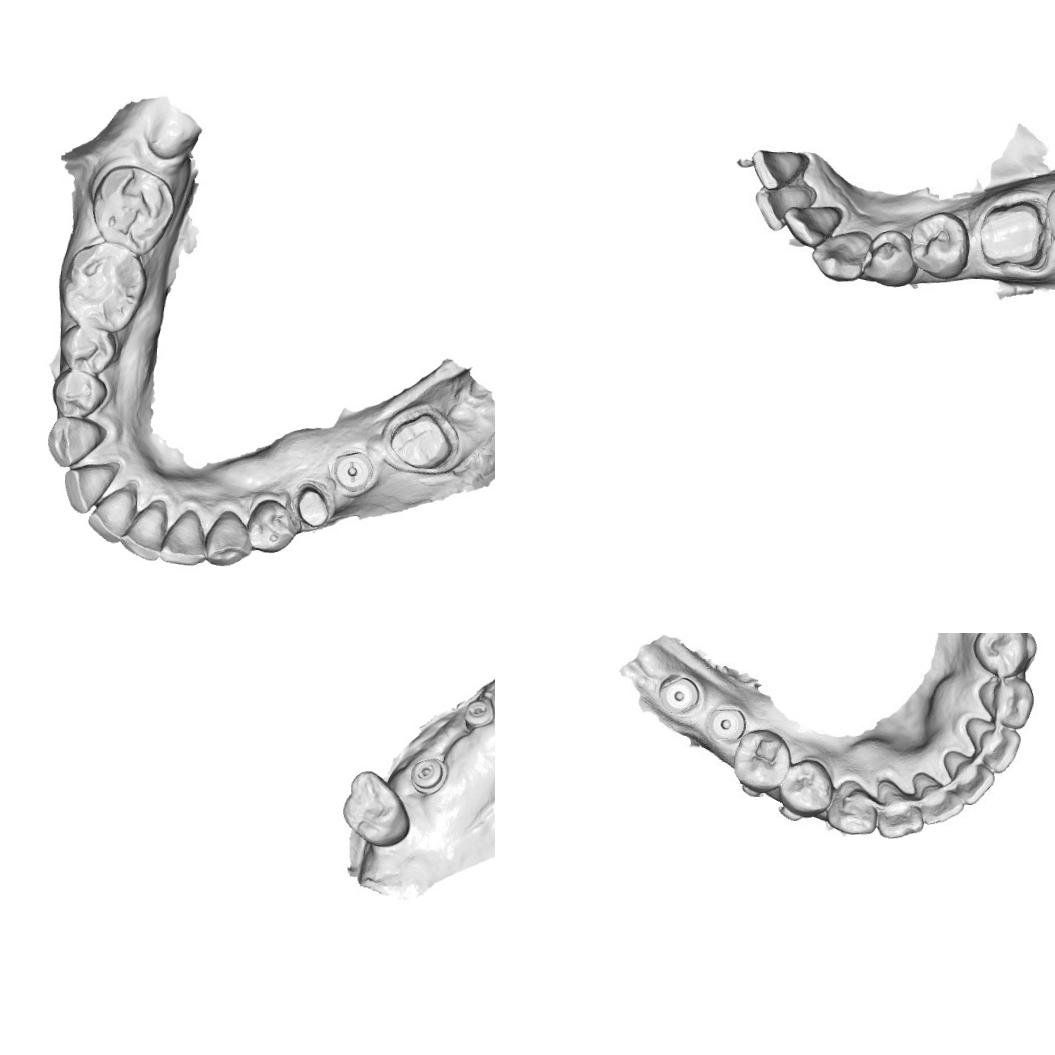canine: (804, 224, 876, 286), (824, 776, 882, 838), (42, 413, 106, 469), (975, 674, 1038, 729), (204, 506, 253, 568)
crown: (978, 199, 1045, 271), (387, 409, 453, 472), (292, 480, 334, 529)
implant: (652, 667, 707, 715), (706, 700, 748, 747)
implant_minus: (331, 447, 374, 492), (406, 756, 450, 795), (457, 694, 495, 728)
incisor: (117, 498, 171, 562), (966, 714, 1023, 774), (84, 482, 137, 546), (61, 463, 116, 516), (752, 145, 815, 190), (159, 507, 206, 567), (873, 784, 925, 838), (754, 180, 811, 228), (913, 771, 959, 825), (947, 751, 994, 802), (788, 203, 840, 244)
molar: (86, 160, 178, 252), (58, 240, 146, 334), (340, 770, 413, 844)
premolar: (730, 724, 796, 793), (774, 756, 836, 815), (243, 496, 302, 554), (911, 214, 965, 276), (55, 324, 114, 376), (50, 369, 108, 420), (862, 230, 911, 285), (973, 633, 1037, 675)
